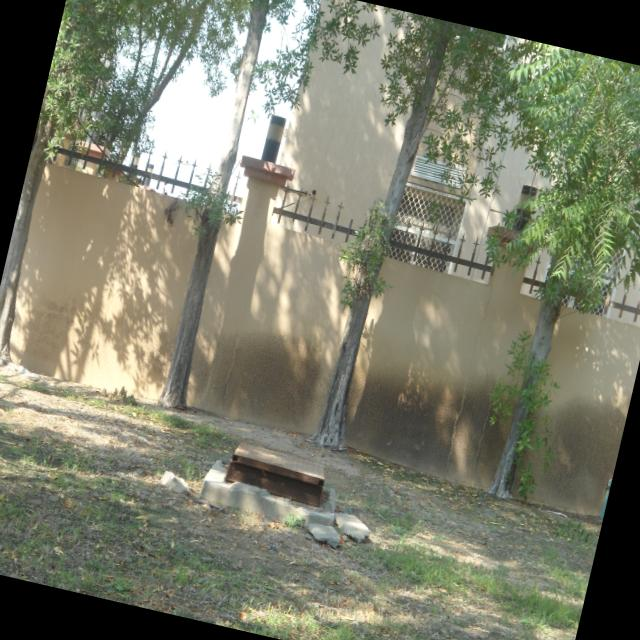pothole: (206, 422, 344, 540)
tree-chair-bench-table-wall: (286, 12, 548, 480), (132, 0, 380, 438), (0, 0, 249, 410), (447, 44, 640, 524)
